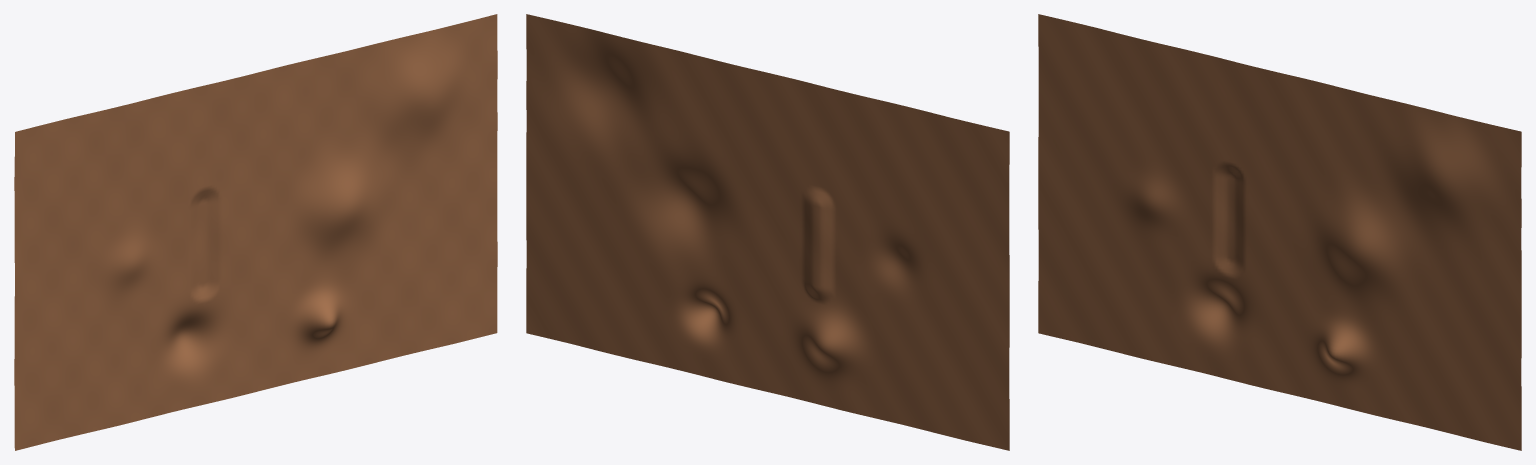
Rendered from terrain.obj.
3 views of the same model, side by side, from view 1: azimuth 30°, elevation 25°; view 2: azimuth 150°, elevation 25°; view 3: azimuth 330°, elevation 25° (orthographic).
Parts seen in each view (by area): view 1: terrain; view 2: terrain; view 3: terrain.
Boxes of the visible parts, bbox=[...] form: terrain: bbox=[14, 14, 497, 450]; terrain: bbox=[526, 14, 1009, 450]; terrain: bbox=[1038, 14, 1521, 450].
Size of the model in its own units: 38 by 24 by 2.67.
